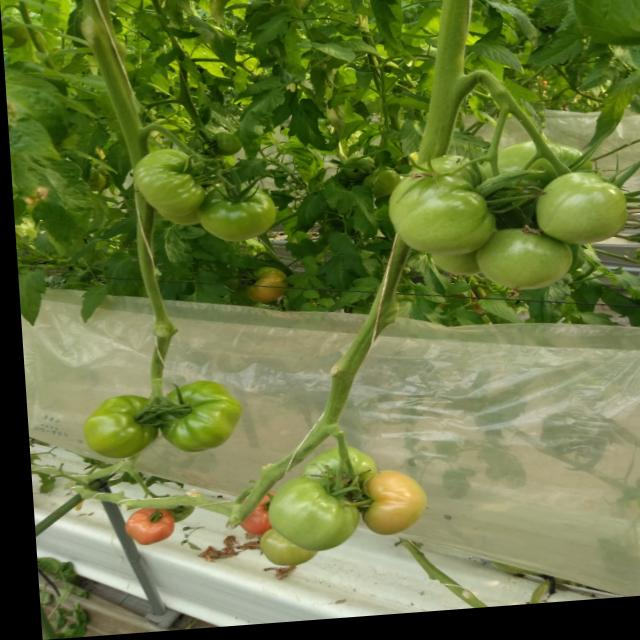yesil: (419, 129, 640, 332), (251, 417, 444, 600), (29, 353, 256, 464), (113, 149, 288, 286)
